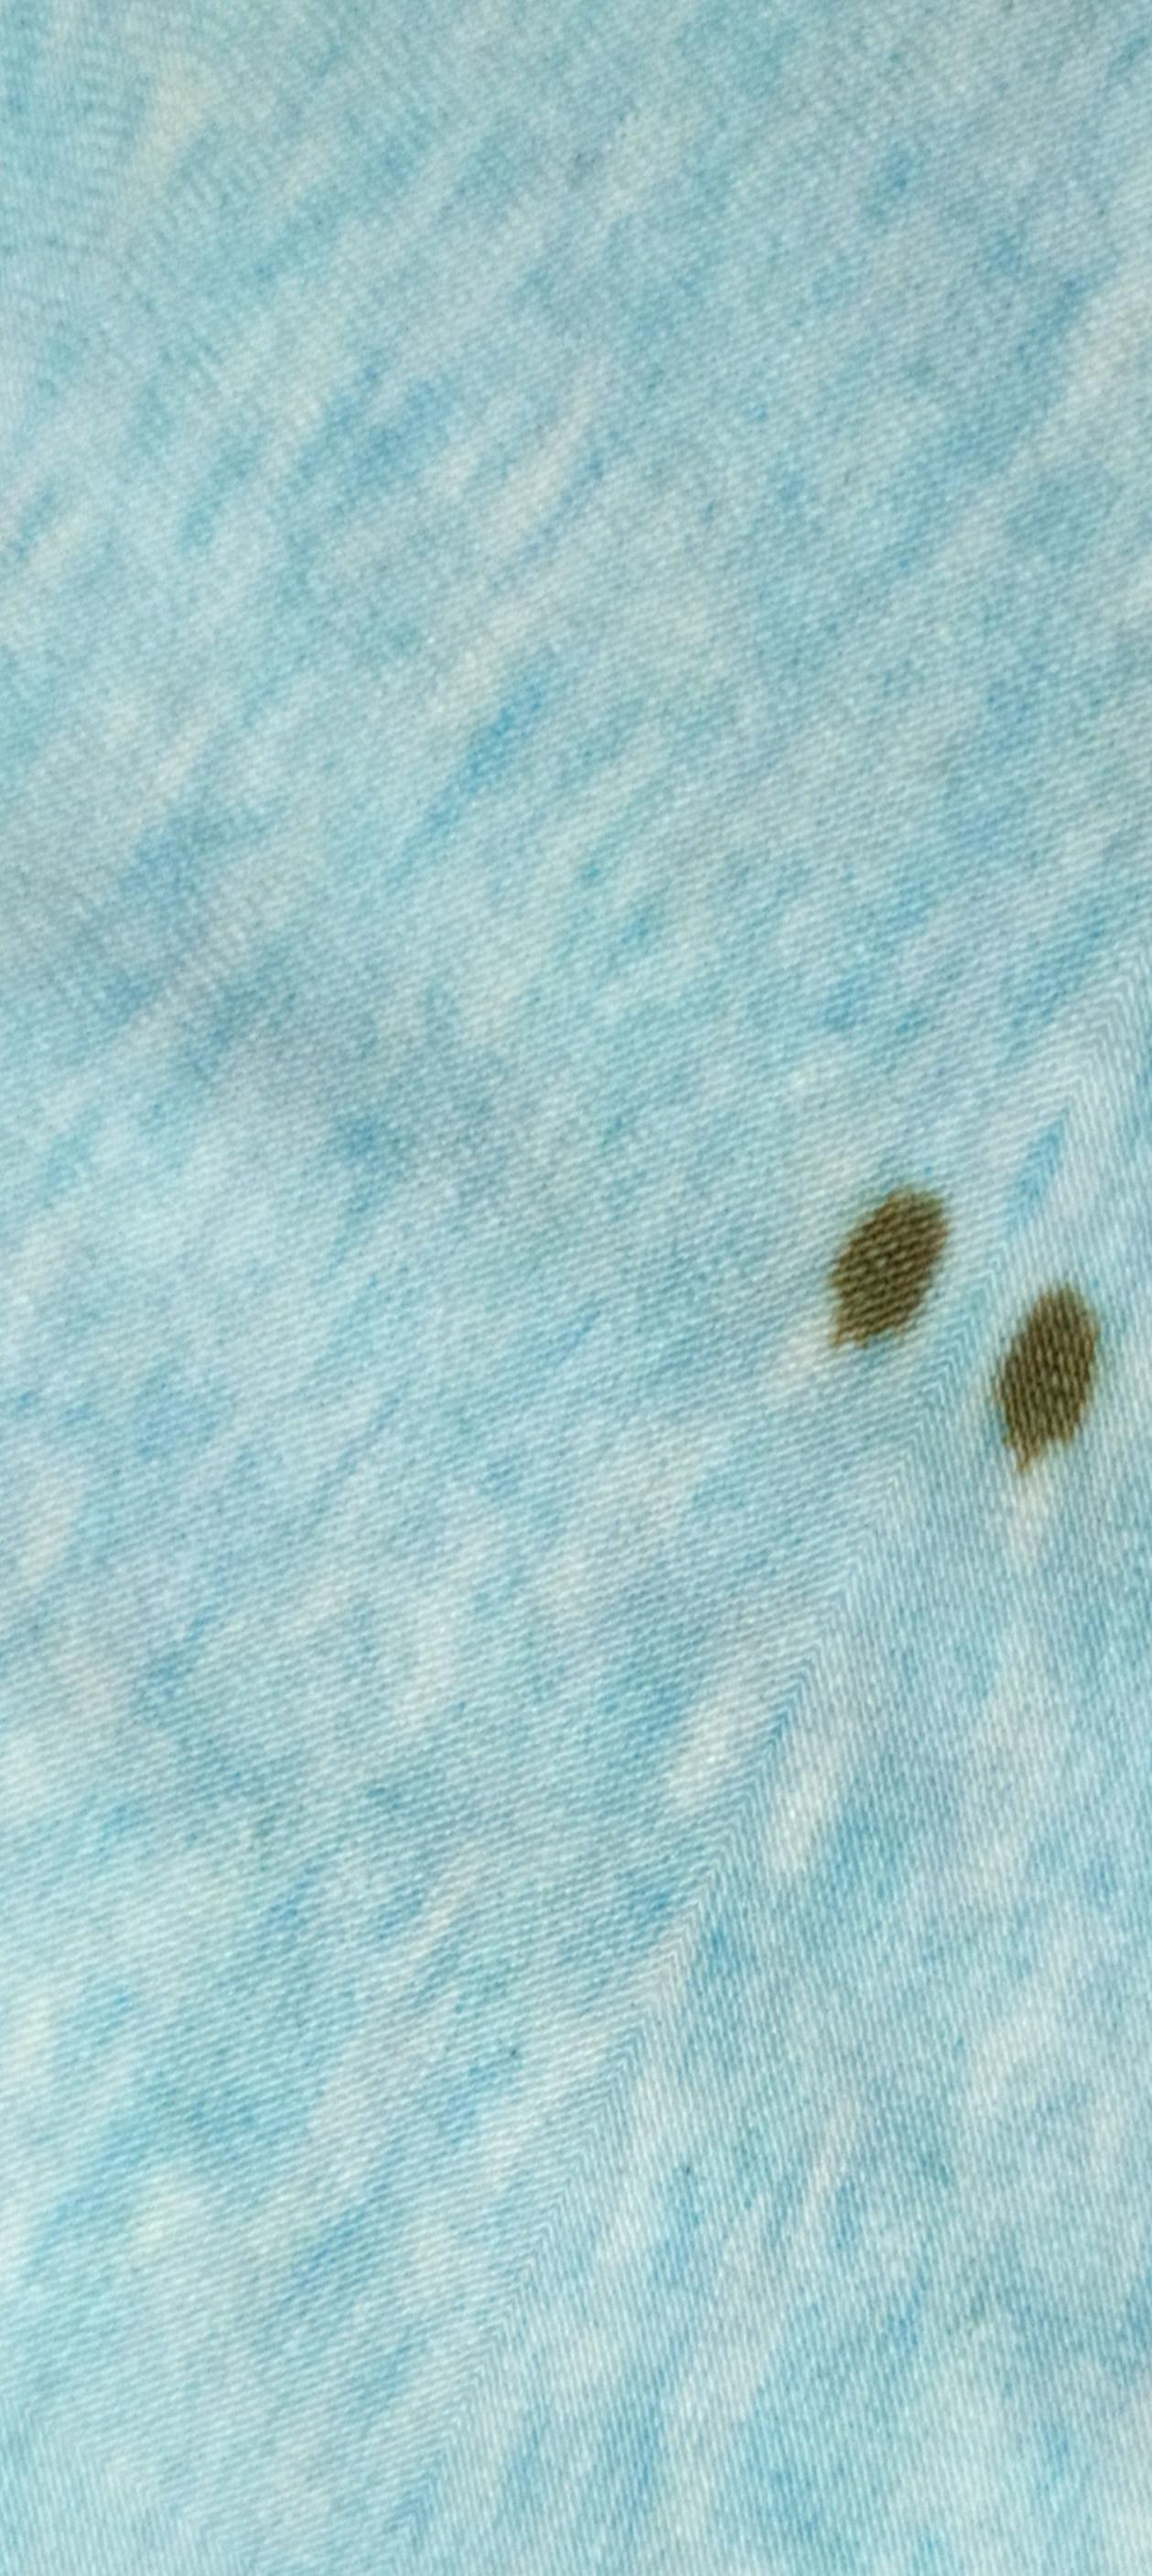stain: (991, 1258, 1113, 1518), (818, 1165, 952, 1362)
